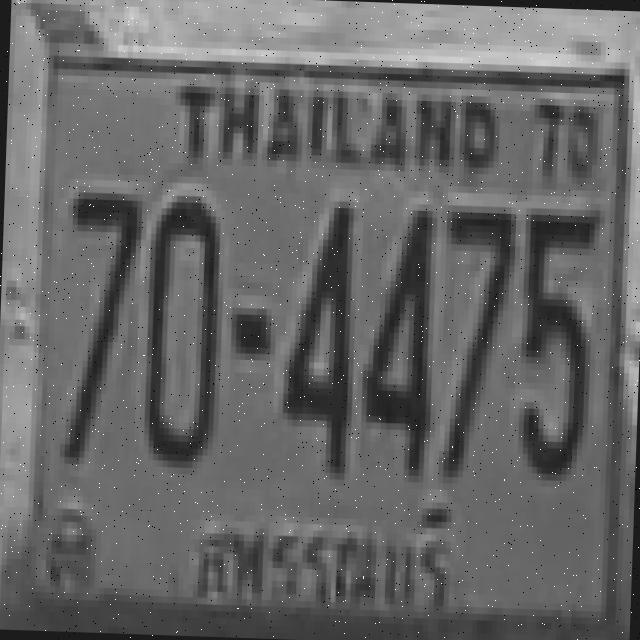0: (137, 194, 220, 462)
4: (276, 196, 354, 470), (357, 205, 435, 472)
5: (512, 208, 595, 474)
7: (436, 202, 514, 476), (59, 188, 138, 456)
SuphanBuri: (193, 487, 469, 630)
